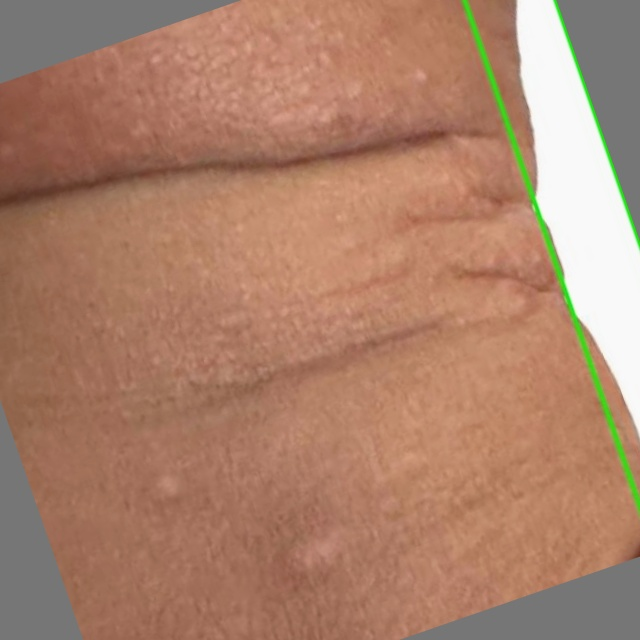Scabies: (464, 0, 639, 505)
